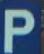Parking: (1, 1, 40, 53)
